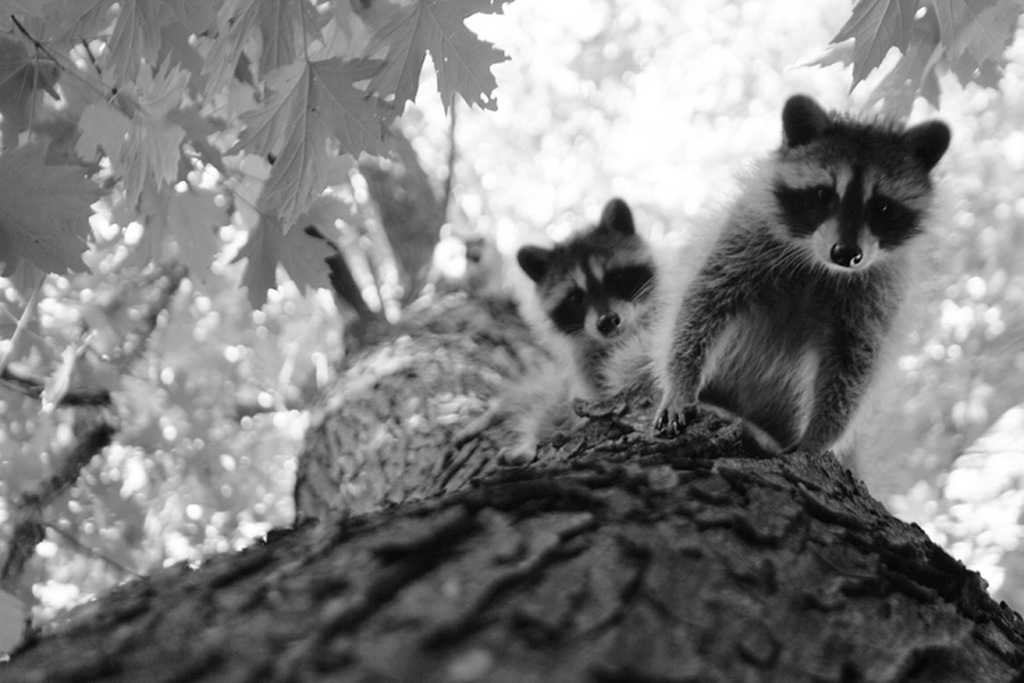raccoon: (672, 92, 950, 447), (521, 197, 675, 397)
